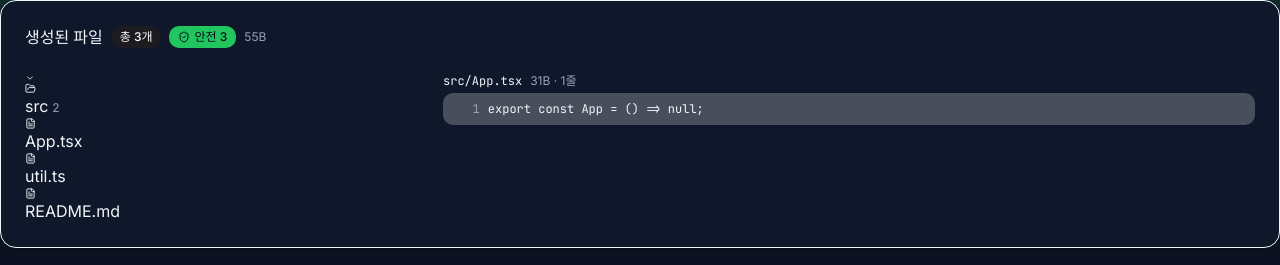
Test case: GeneratedFilesPanel — read-only inspector (OSS-H3) › (P3) 중첩 경로 → 디렉토리 토글 + 자식 leaf 클릭 시 미리보기 전환
Later steps or results of the test are not shown.
Check: the list item with test id "generated-files-dir-m3-src" is shown, box [25, 73, 82, 188]
Check: the text with test id "generated-files-preview-path-m3" reads "src/App.tsx", box [443, 73, 522, 89]
// 다른 leaf 클릭 → 미리보기 전환
Click the button with test id "generated-files-leaf-m3-src/util.ts".
click(45, 170)  # box [25, 153, 66, 188]
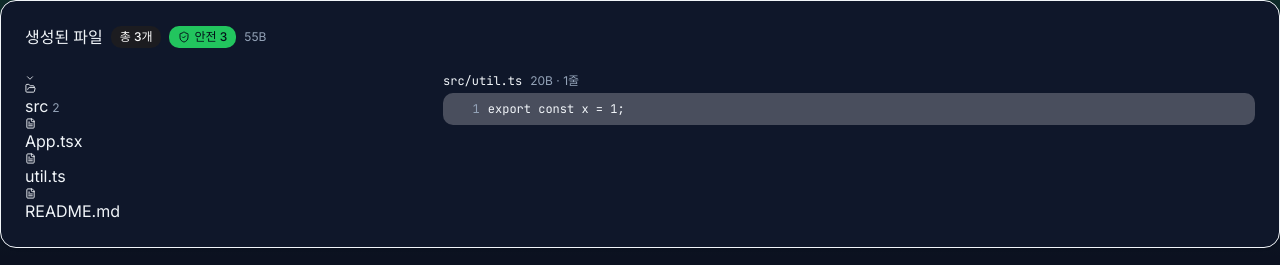
Check: the text with test id "generated-files-preview-path-m3" reads "src/util.ts", box [443, 73, 522, 89]
